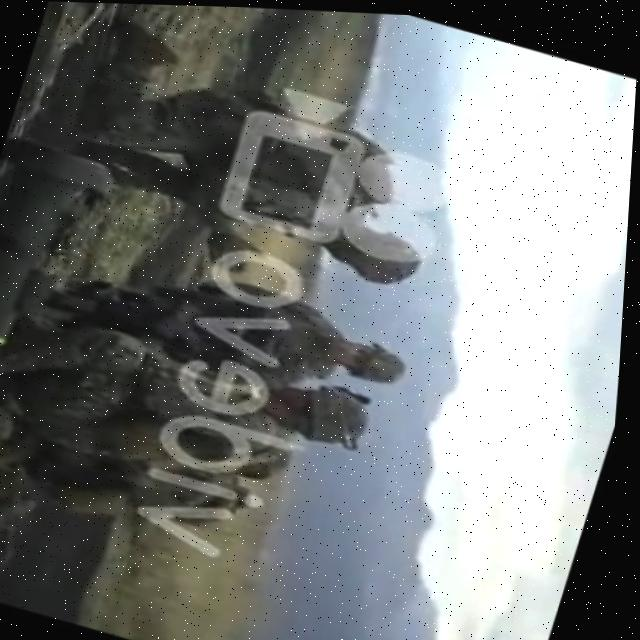rocket: (0, 135, 123, 448)
